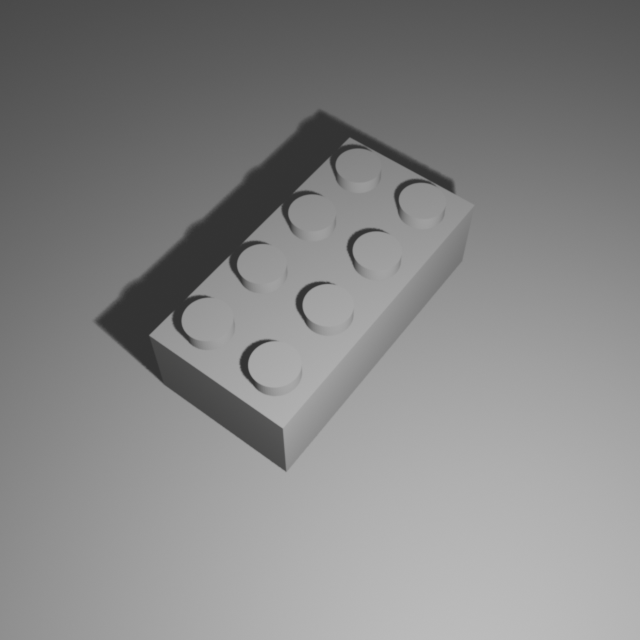lego_2x4: (146, 127, 477, 472)
